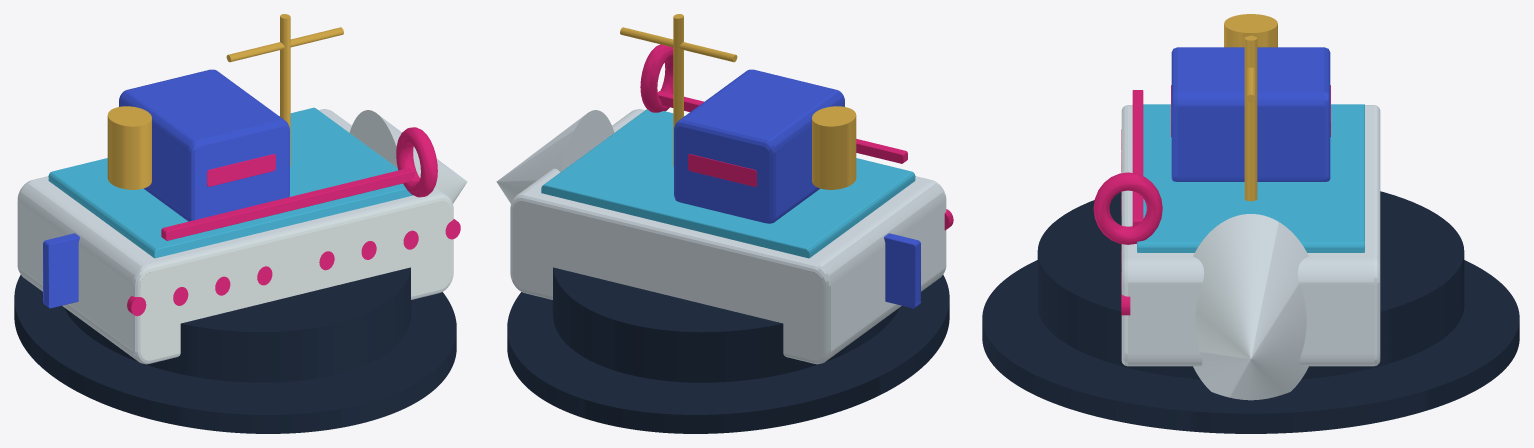
File: 0391_欧洲文明图鉴_圣玛利亚号帆船.glb
The picture shows the model from 3 angles, left to right: view 1: azimuth 30°, elevation 25°; view 2: azimuth 150°, elevation 25°; view 3: azimuth 270°, elevation 25°; orthographic projection. The views are drawn at different scales.
Visible parts, largest first — view 1: card_0391; view 2: card_0391; view 3: card_0391.
Boxes of the visible parts, x1,y1,x2,y2 form: card_0391: (14, 14, 467, 433); card_0391: (496, 14, 953, 433); card_0391: (982, 14, 1519, 433).
Size of the model in its own units: 1.45 by 1 by 1.49.
